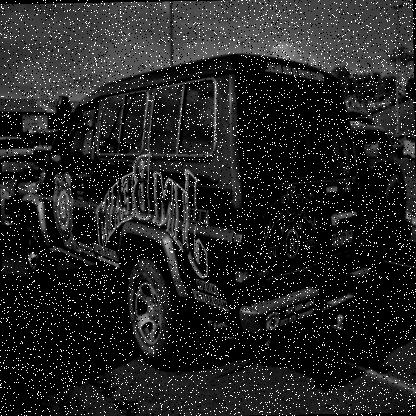Car: (348, 116, 413, 272), (0, 145, 53, 249), (0, 132, 35, 174), (364, 136, 400, 160), (392, 136, 415, 145)
